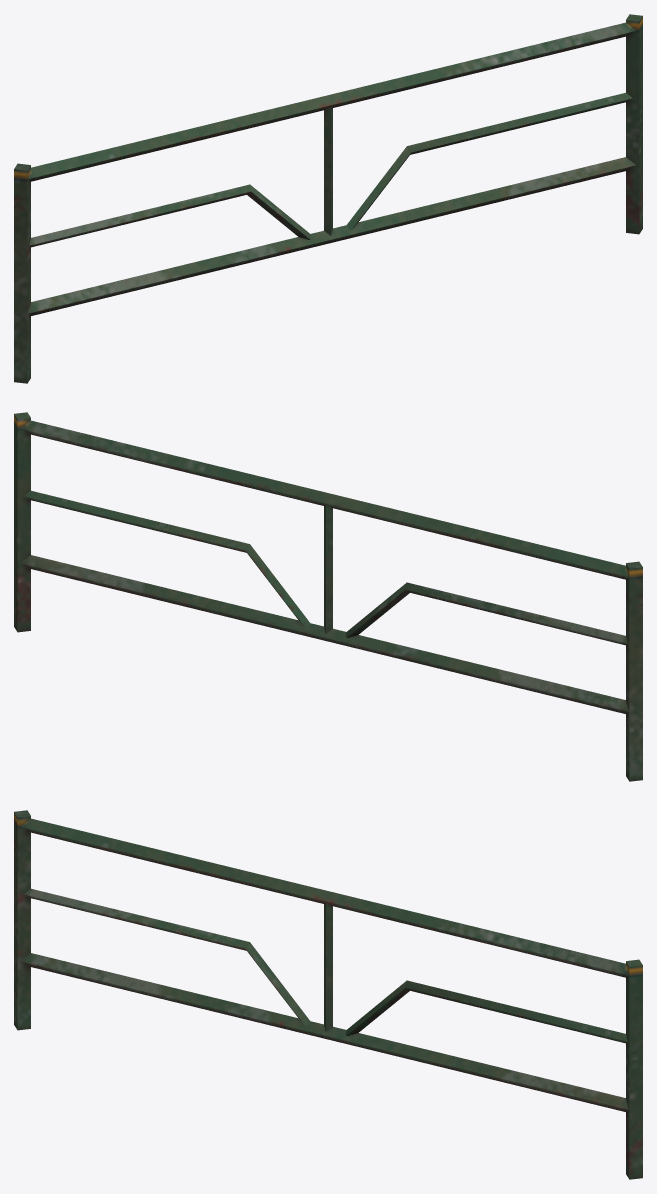
File: jctlowGuardRailA.fbx
The picture shows the model from 3 angles, top to bottom: view 1: azimuth 30°, elevation 25°; view 2: azimuth 150°, elevation 25°; view 3: azimuth 330°, elevation 25°; orthographic projection.
Visible parts, largest first — view 1: jctlowGuardRailA; view 2: jctlowGuardRailA; view 3: jctlowGuardRailA.
Boxes of the visible parts, bbox=[...] form: jctlowGuardRailA: bbox=[14, 14, 642, 383]; jctlowGuardRailA: bbox=[14, 412, 642, 781]; jctlowGuardRailA: bbox=[14, 810, 642, 1179].
Bounding box in the file's own units: 206 × 66.5 × 5.6.
Materials: 1 (1 with a texture image).
